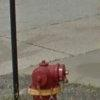a fire hydrant: (26, 59, 70, 100)
